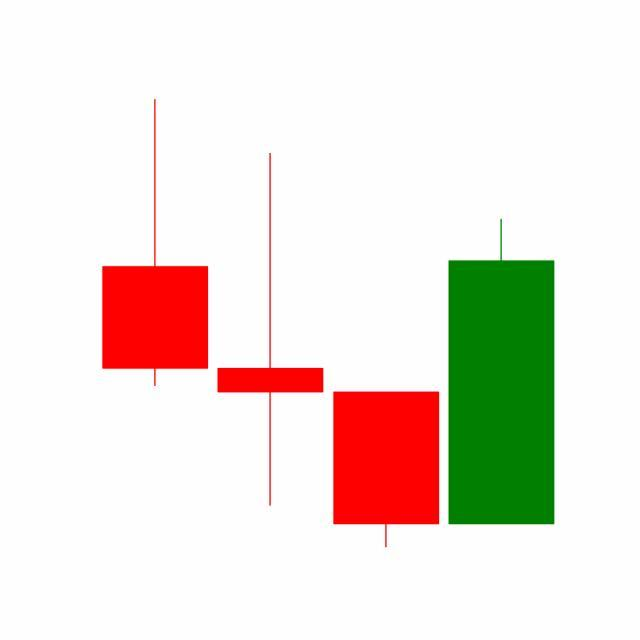Marubozu: (329, 390, 445, 550)
